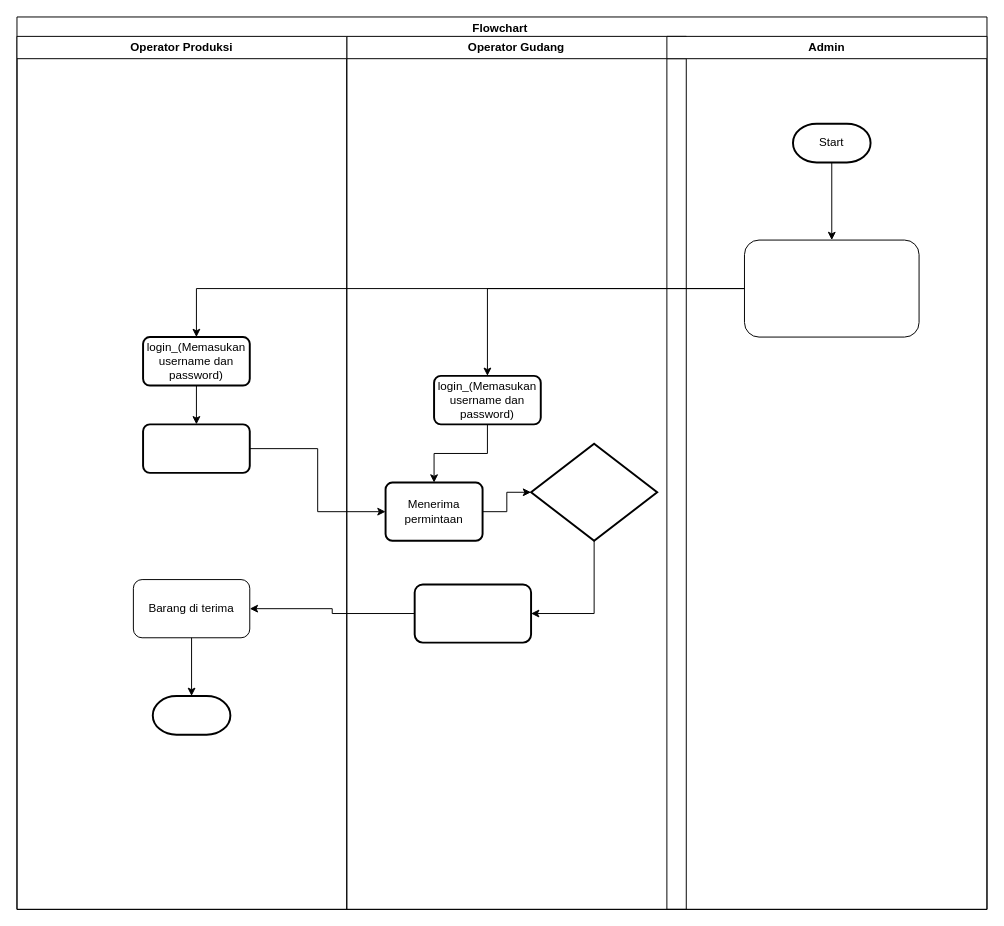
The diagram is 1004 pixels wide and 926 high, and some of its shapes have lost their labels. The shapes that lost their labels are listed below. From the top down, each one's centre as x and y in pixels, then its label:
At pixel 831 288: "Menambahkan akun untuk Operator produksi dan Operator Gudang".
At pixel 196 448: "Operator produksi membuat permintaan".
At pixel 594 491: "mengecek daya robot dan posisi robot".
At pixel 472 613: "Barang di kirim".
At pixel 191 715: "End".
